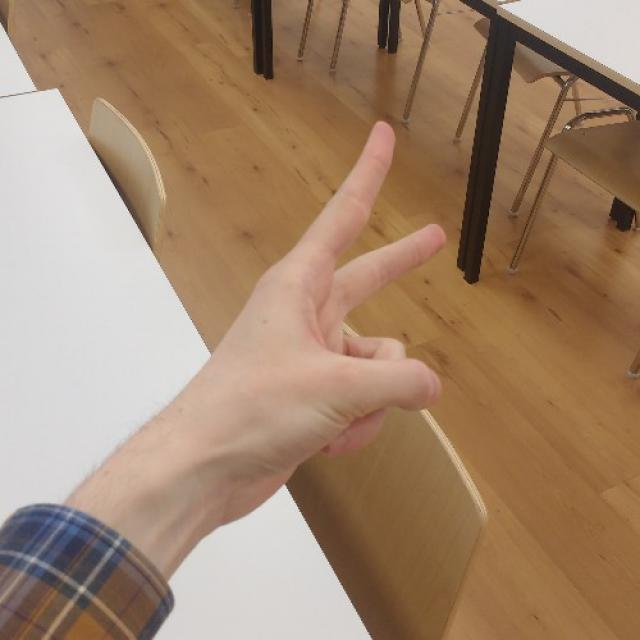scissors: (231, 114, 456, 494)
